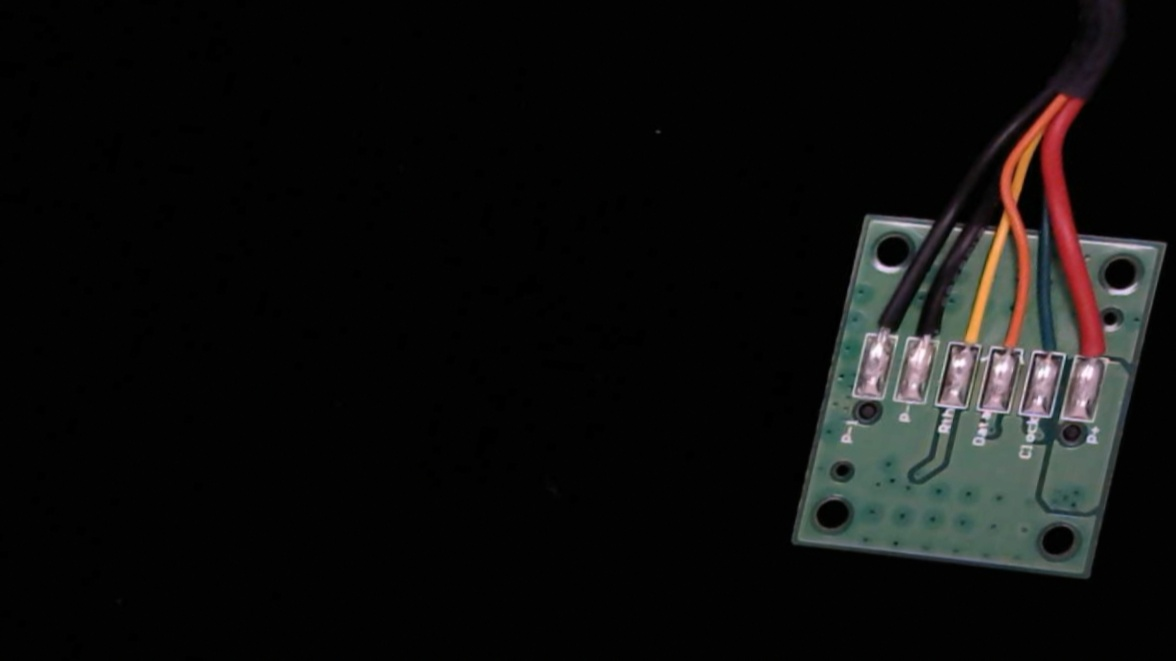Black: (904, 292, 950, 354)
Black1: (862, 288, 909, 351)
Green: (1028, 309, 1078, 370)
Orange: (989, 302, 1033, 364)
Red: (1070, 310, 1121, 375)
Yellow: (945, 293, 995, 359)
